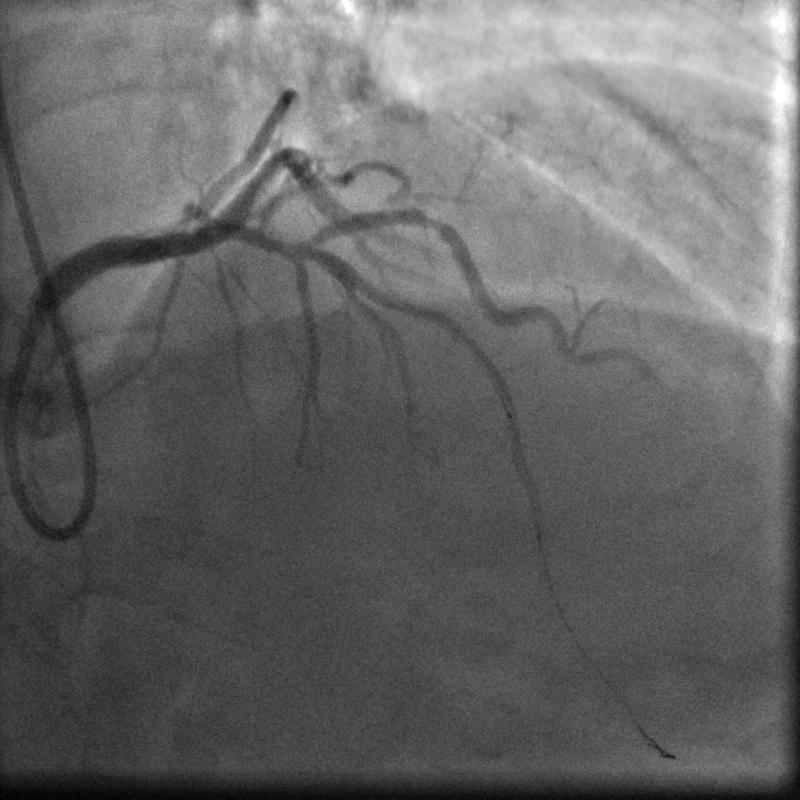Stenosis: (412, 205, 449, 240)
